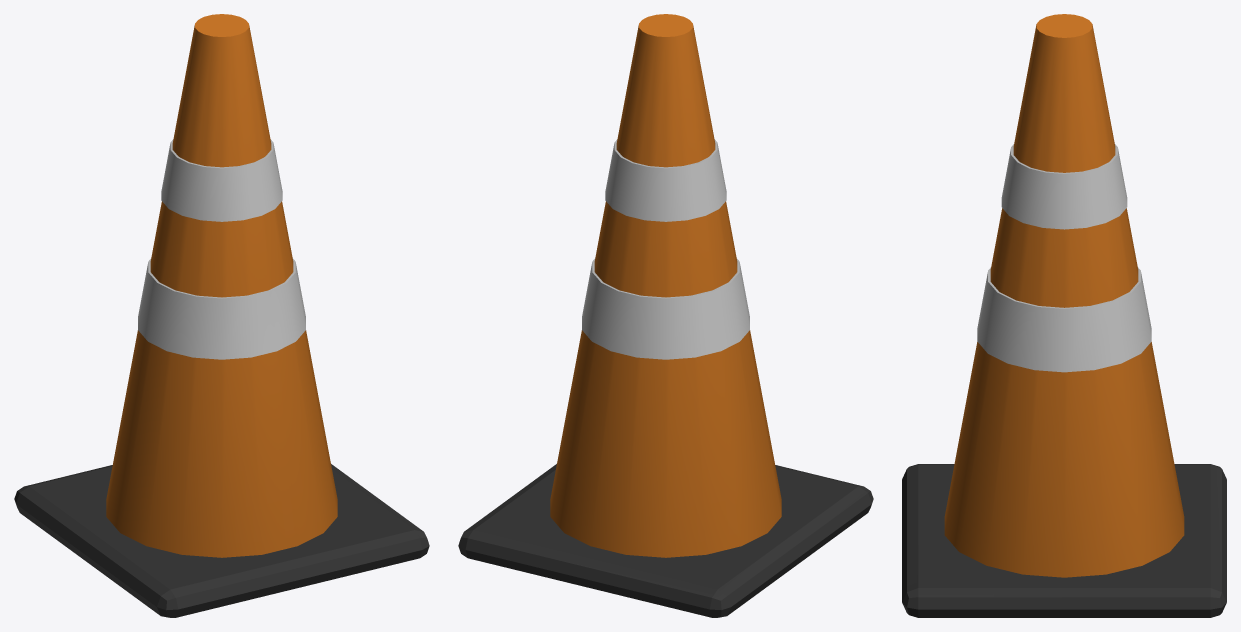
3 views of the same model, side by side, from view 1: azimuth 30°, elevation 25°; view 2: azimuth 150°, elevation 25°; view 3: azimuth 270°, elevation 25° (orthographic). The views are drawn at different scales.
Parts seen in each view (by area): view 1: body; view 2: body; view 3: body.
Part boxes in pixels (x1,y1,x2,y2): body: (14, 14, 429, 617); body: (458, 14, 873, 617); body: (902, 14, 1226, 617).
Bounding box in the file's own units: 0.4 × 0.72 × 0.4.
